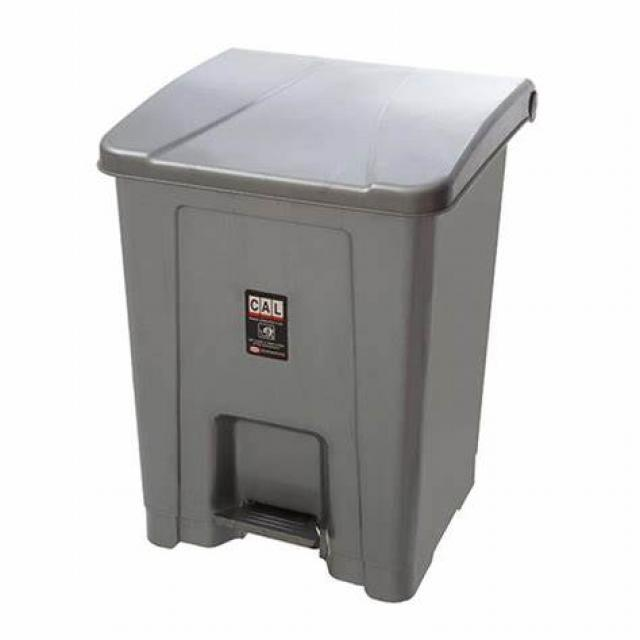garbage container: (91, 14, 578, 604)
